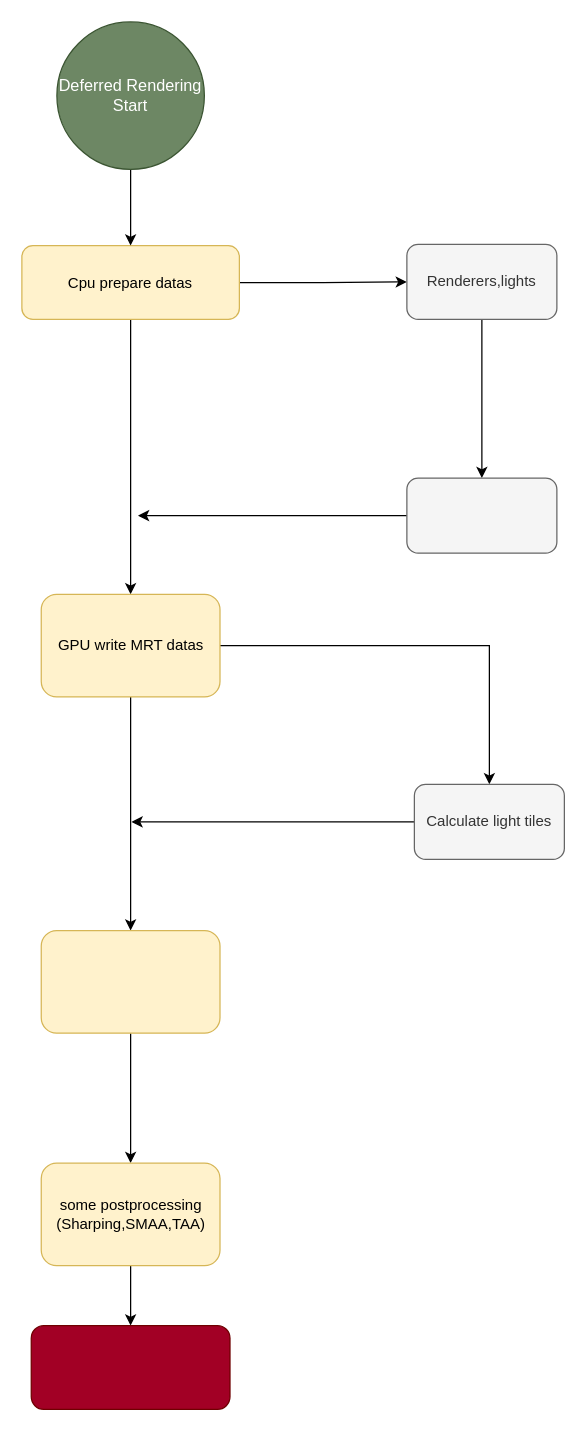
Image size: 586x1431. Some labels were removed from this diagram. The shapes that lost their labels are listed below. From the top down, each one's box as (x1, y1, x2, y2) in pixels, then its label:
(406, 477, 557, 553): Occlusion Culling
(40, 929, 220, 1033): Calculate Lighting and some postprocessing (ToneMapping,Bloom, TAA,LUT,SSR)
(30, 1324, 230, 1409): Write to frameback
